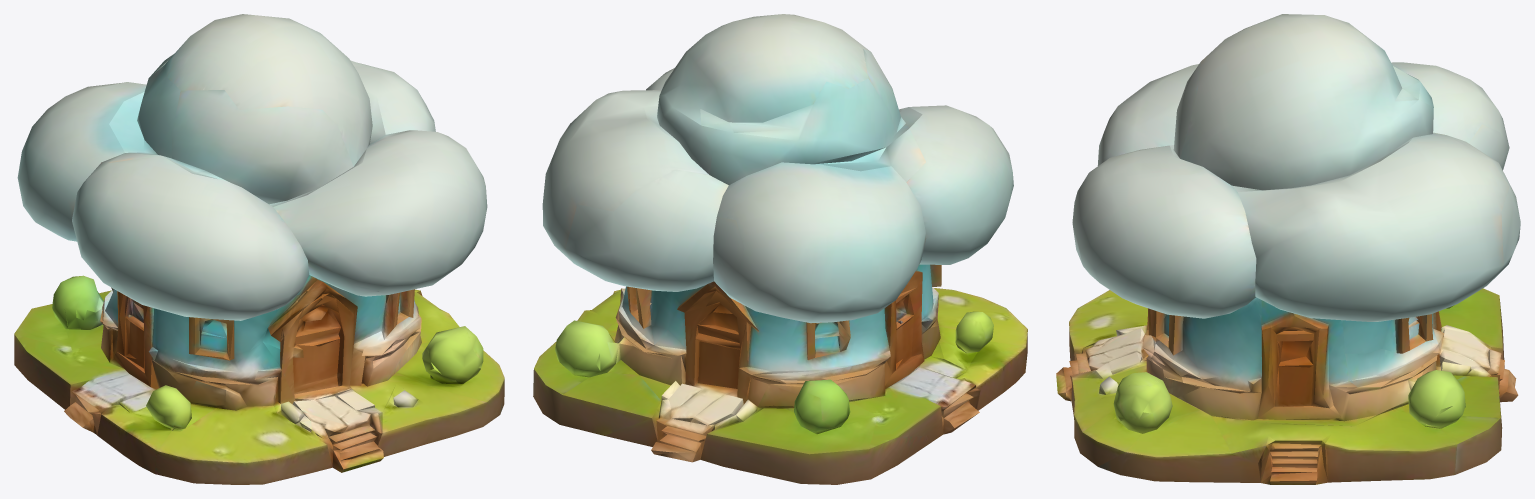
The model's file is m2CloudPlatformV2.glb.
3 views of the same model, side by side, from view 1: azimuth 30°, elevation 25°; view 2: azimuth 150°, elevation 25°; view 3: azimuth 270°, elevation 25° (orthographic). The views are drawn at different scales.
Parts seen in each view (by area): view 1: model; view 2: model; view 3: model.
Boxes of the visible parts, x1,y1,x2,y2 form: model: [14, 14, 504, 484]; model: [533, 14, 1027, 484]; model: [1056, 14, 1520, 484].
Bounding box in the file's own units: 1.84 × 1.66 × 1.9.
Materials: 1 (1 with a texture image).
